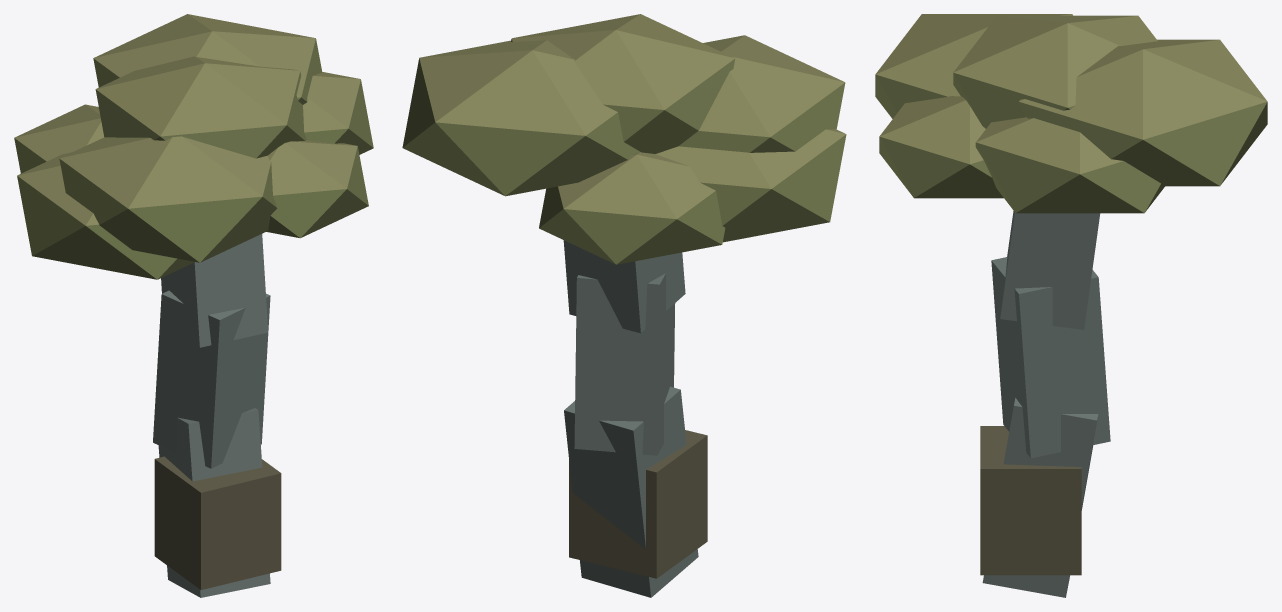
Rendered from SM_Pino_v1_LOD1.fbx.
3 views of the same model, side by side, from view 1: azimuth 30°, elevation 25°; view 2: azimuth 150°, elevation 25°; view 3: azimuth 270°, elevation 25° (orthographic). The views are drawn at different scales.
Visible parts, largest first — view 1: SM_pino_v1_LOD1; view 2: SM_pino_v1_LOD1; view 3: SM_pino_v1_LOD1.
Boxes of the visible parts, x1,y1,x2,y2 form: SM_pino_v1_LOD1: (14, 14, 373, 597); SM_pino_v1_LOD1: (402, 14, 846, 597); SM_pino_v1_LOD1: (875, 14, 1267, 597).
Bounding box in the file's own units: 3.72 × 5.24 × 3.34.
